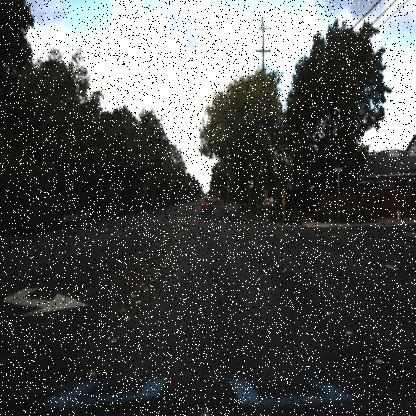car: (198, 188, 216, 218)
